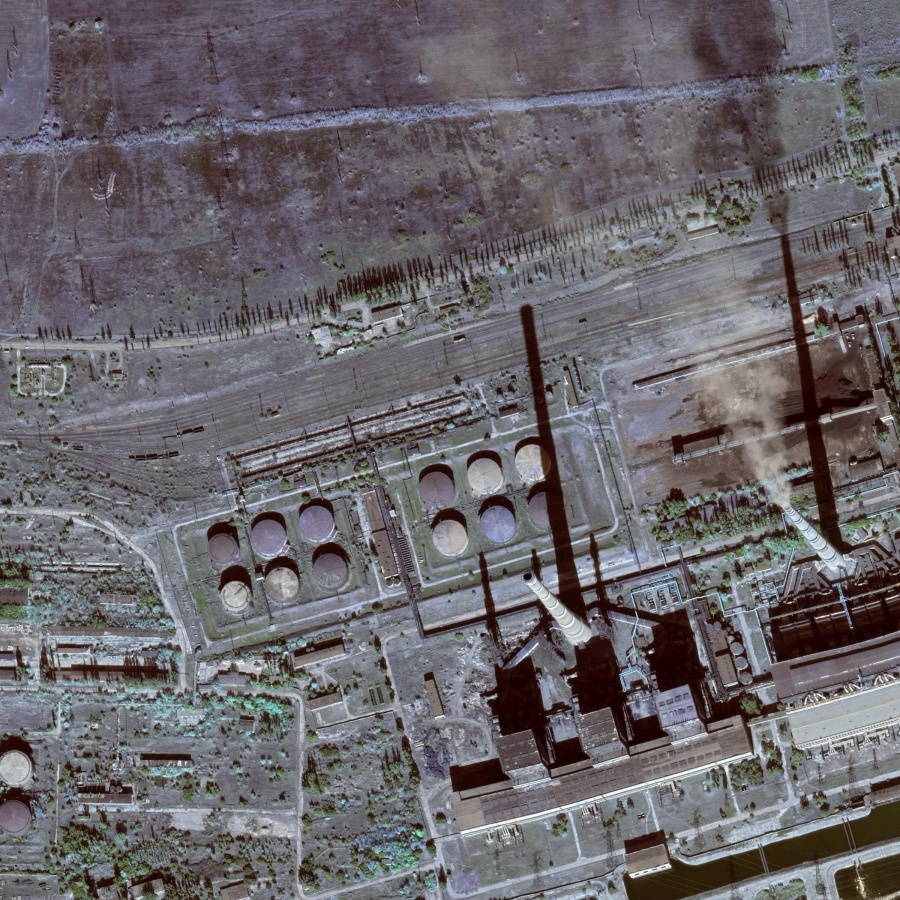PowerPlant: (170, 475, 377, 651)
